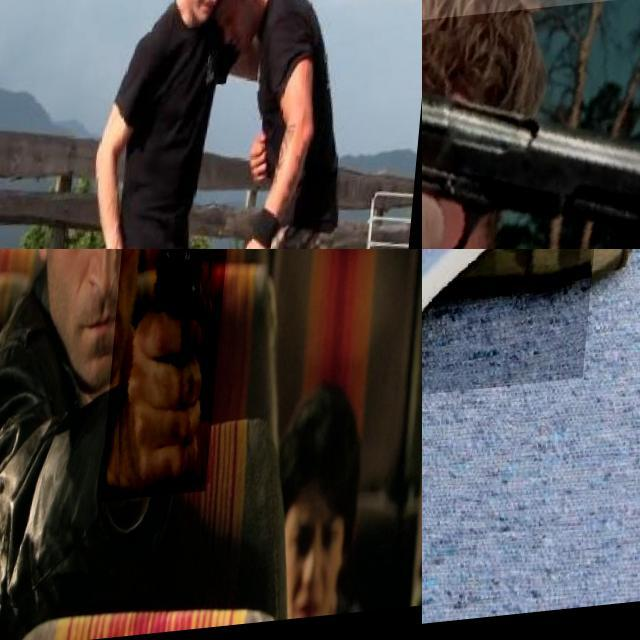-: (422, 249, 614, 433)
gun-knife-thesis - v11 Yolov5 augmented: (422, 3, 640, 249), (109, 249, 234, 507)
